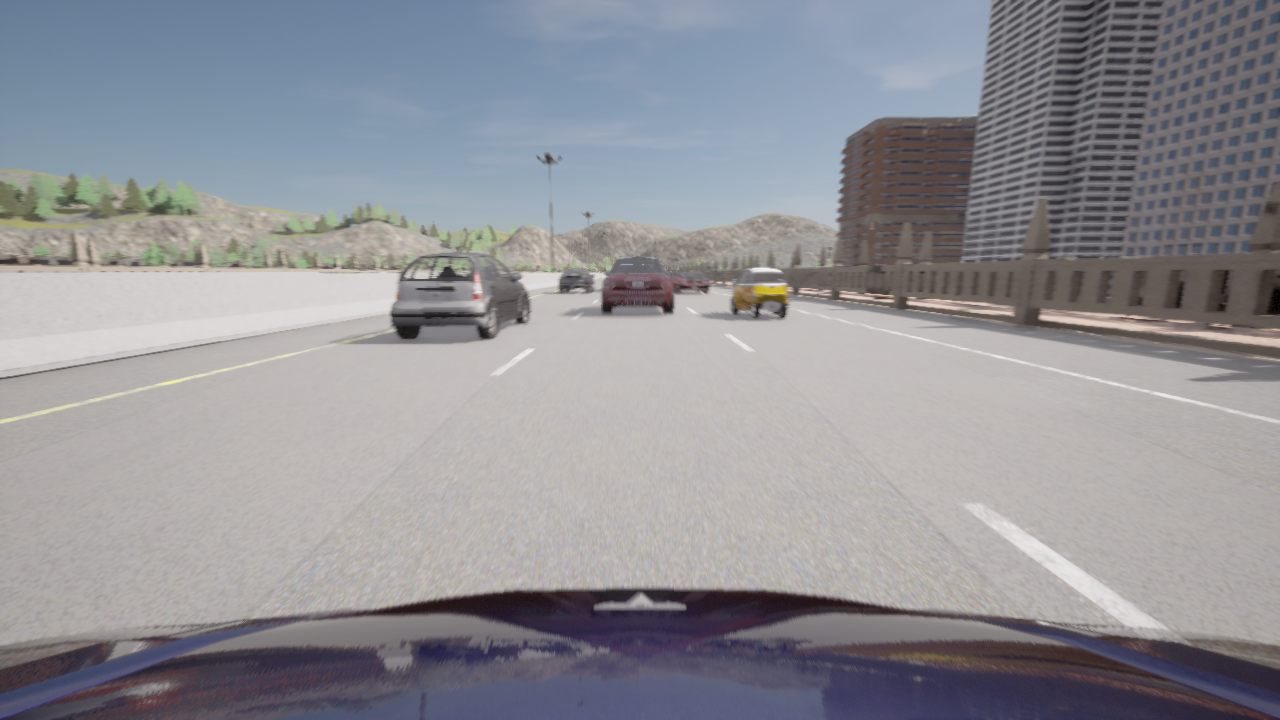cyclist: (0, 588, 1279, 719), (389, 252, 530, 339), (602, 254, 673, 313), (731, 268, 788, 318), (559, 268, 594, 293), (672, 272, 709, 293)
